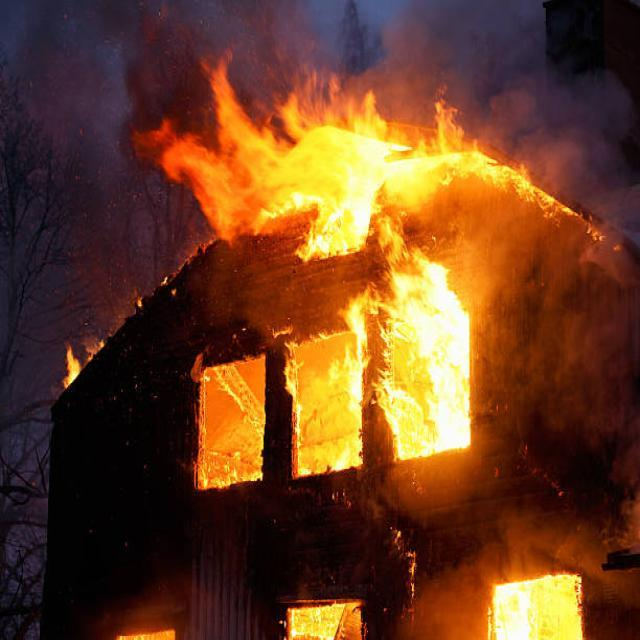Fire: (132, 53, 557, 257), (347, 224, 477, 454)
